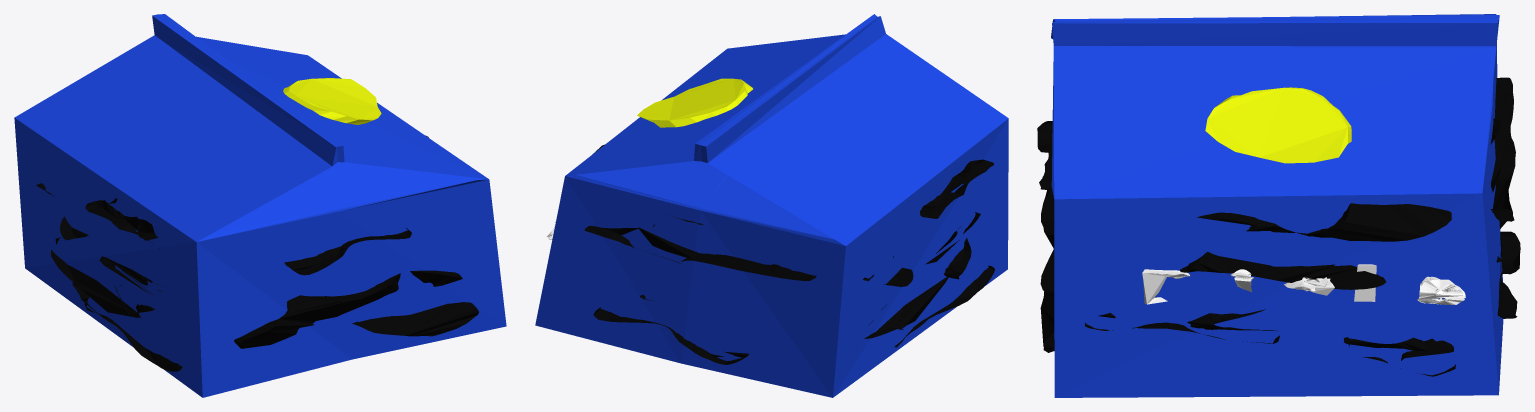
File: crush_high_0.obj
The picture shows the model from 3 angles, left to right: view 1: azimuth 30°, elevation 25°; view 2: azimuth 150°, elevation 25°; view 3: azimuth 270°, elevation 25°; orthographic projection. The views are drawn at different scales.
Parts seen in each view (by area): view 1: model; view 2: model; view 3: model.
Boxes of the visible parts, x1=… form: model: x1=14, y1=14, x2=506, y2=397; model: x1=535, y1=14, x2=1008, y2=397; model: x1=1037, y1=14, x2=1520, y2=397.
Bounding box in the file's own units: 0.0845 × 0.0546 × 0.0864.
1 material, 1 textured.
